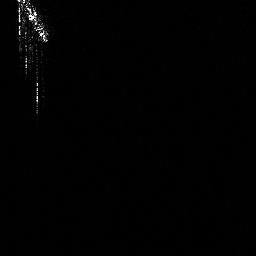ship: (13, 1, 53, 117)
